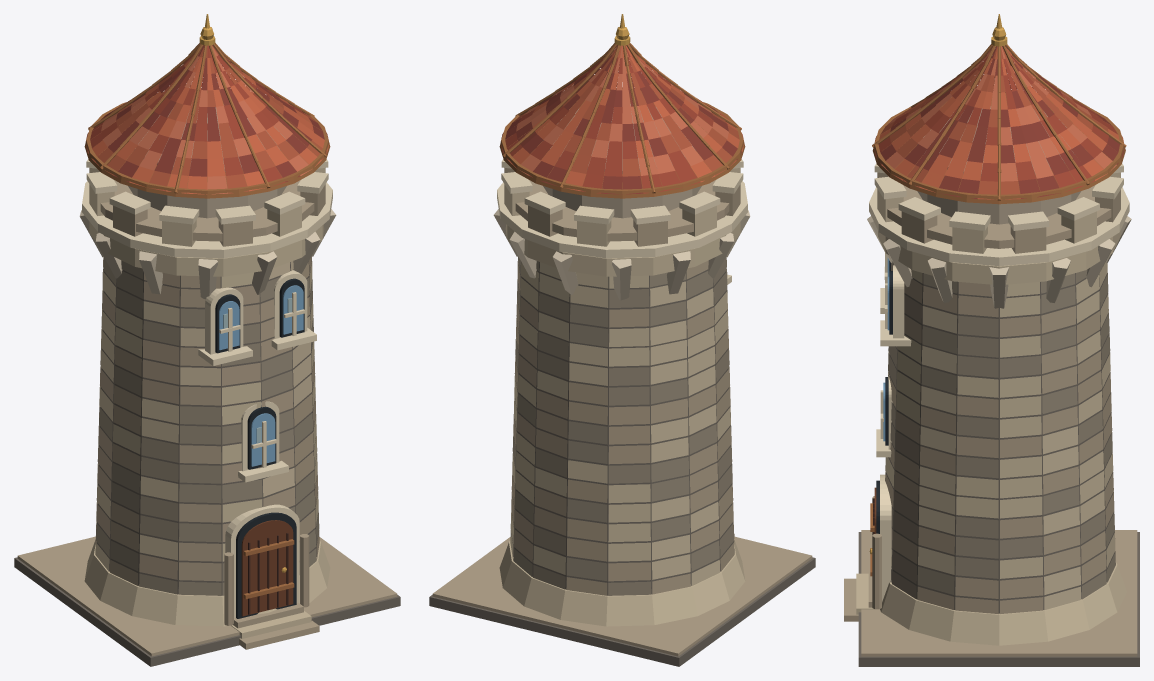
The model's file is watch-nivel-5.glb.
3 views of the same model, side by side, from view 1: azimuth 30°, elevation 25°; view 2: azimuth 150°, elevation 25°; view 3: azimuth 270°, elevation 25° (orthographic). The views are drawn at different scales.
Parts seen in each view (by area): view 1: Vigia 05 #b4a38a, Vigia 05 #cebea0, Vigia 05 #9b8f7c, Vigia 05 #e6d7ba, Vigia 05 #746c62, Vigia 05 #a76e42, Vigia 05 #bf6243, Vigia 05 #853e33, Vigia 05 #a8563c, Vigia 05 #c06b4f, Vigia 05 #9b4735, Vigia 05 #70432c (+5 smaller); view 2: Vigia 05 #cebea0, Vigia 05 #b4a38a, Vigia 05 #9b8f7c, Vigia 05 #746c62, Vigia 05 #e6d7ba, Vigia 05 #a76e42, Vigia 05 #9b4735, Vigia 05 #853e33, Vigia 05 #c06b4f, Vigia 05 #a8563c, Vigia 05 #bf6243, Vigia 05 #d2c4ad (+1 smaller); view 3: Vigia 05 #cebea0, Vigia 05 #b4a38a, Vigia 05 #9b8f7c, Vigia 05 #746c62, Vigia 05 #e6d7ba, Vigia 05 #a76e42, Vigia 05 #853e33, Vigia 05 #bf6243, Vigia 05 #9b4735, Vigia 05 #a8563c, Vigia 05 #c06b4f, Vigia 05 #d2c4ad (+2 smaller).
Part boxes in pixels (x1,y1,x2,y2): Vigia 05 #b4a38a: (17,168,397,656); Vigia 05 #cebea0: (84,168,330,638); Vigia 05 #9b8f7c: (95,257,319,595); Vigia 05 #e6d7ba: (82,159,332,618); Vigia 05 #746c62: (14,261,400,666); Vigia 05 #a76e42: (84,42,330,599); Vigia 05 #bf6243: (87,53,329,194); Vigia 05 #853e33: (101,45,328,181); Vigia 05 #a8563c: (93,45,327,193); Vigia 05 #c06b4f: (101,45,311,194); Vigia 05 #9b4735: (85,45,306,186); Vigia 05 #70432c: (241,520,293,616); Vigia 05 #cebea0: (499,168,745,626); Vigia 05 #b4a38a: (432,168,812,656); Vigia 05 #9b8f7c: (512,256,734,595); Vigia 05 #746c62: (429,261,815,666); Vigia 05 #e6d7ba: (497,159,747,284); Vigia 05 #a76e42: (499,43,745,198); Vigia 05 #9b4735: (501,47,713,193); Vigia 05 #853e33: (500,51,741,194); Vigia 05 #c06b4f: (516,45,728,175); Vigia 05 #a8563c: (512,45,743,176); Vigia 05 #bf6243: (508,45,744,191); Vigia 05 #d2c4ad: (493,209,750,300); Vigia 05 #cebea0: (856,172,1126,645); Vigia 05 #b4a38a: (844,172,1137,656); Vigia 05 #9b8f7c: (885,261,1115,599); Vigia 05 #746c62: (858,273,1139,666); Vigia 05 #e6d7ba: (869,163,1129,601); Vigia 05 #a76e42: (870,44,1126,576); Vigia 05 #853e33: (876,46,1124,198); Vigia 05 #bf6243: (874,47,1123,192); Vigia 05 #9b4735: (874,55,1122,192); Vigia 05 #a8563c: (876,46,1108,199); Vigia 05 #c06b4f: (881,46,1116,181); Vigia 05 #d2c4ad: (867,216,1131,308).
Size of the model in its own units: 4.36 by 9.54 by 4.34.
